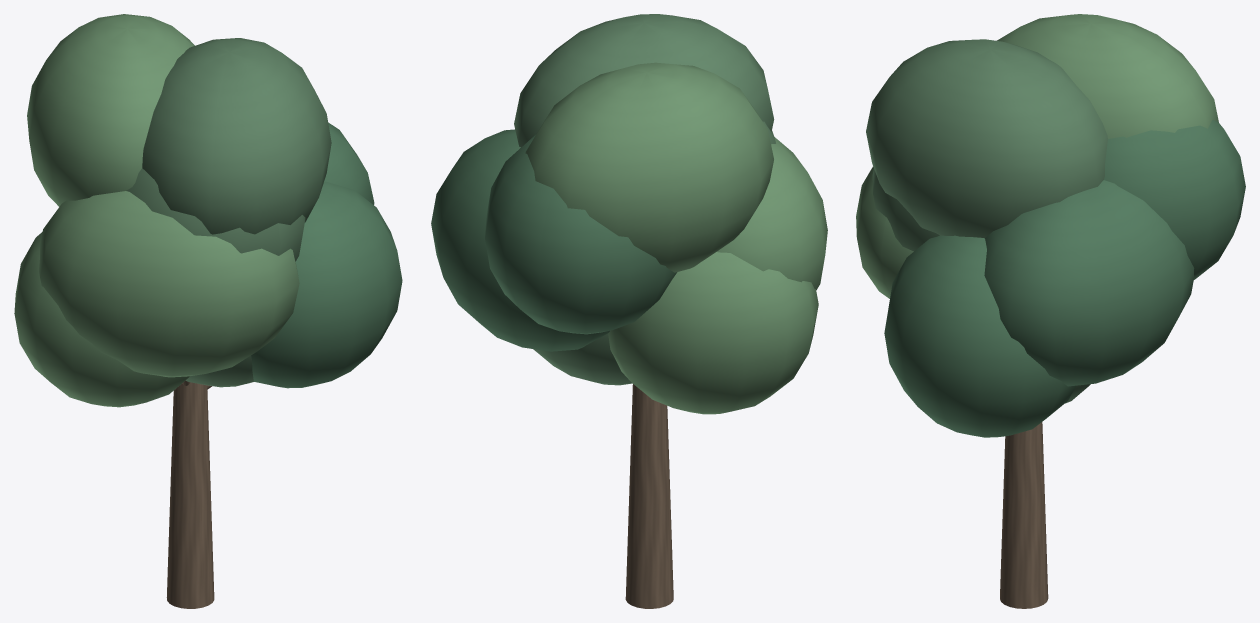
File: garden-tree.glb
3 views of the same model, side by side, from view 1: azimuth 30°, elevation 25°; view 2: azimuth 150°, elevation 25°; view 3: azimuth 270°, elevation 25° (orthographic).
Parts seen in each view (by area): view 1: garden-tree; view 2: garden-tree; view 3: garden-tree.
Boxes of the visible parts, x1=… form: garden-tree: x1=14, y1=14, x2=402, y2=608; garden-tree: x1=431, y1=14, x2=827, y2=608; garden-tree: x1=856, y1=14, x2=1245, y2=608.
Size of the model in its own units: 2.68 by 4.08 by 2.57.
Materials: 19 (19 with a texture image).
